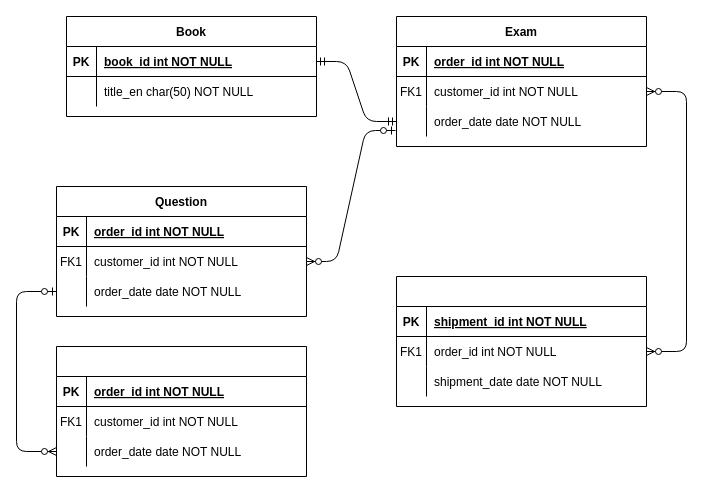
The diagram is 703 pixels wide and 493 high, and some of its shapes have lost their labels. Each missing label, with the box of its shape:
Answer: (56, 346, 306, 476)
Reader: (396, 276, 646, 406)
